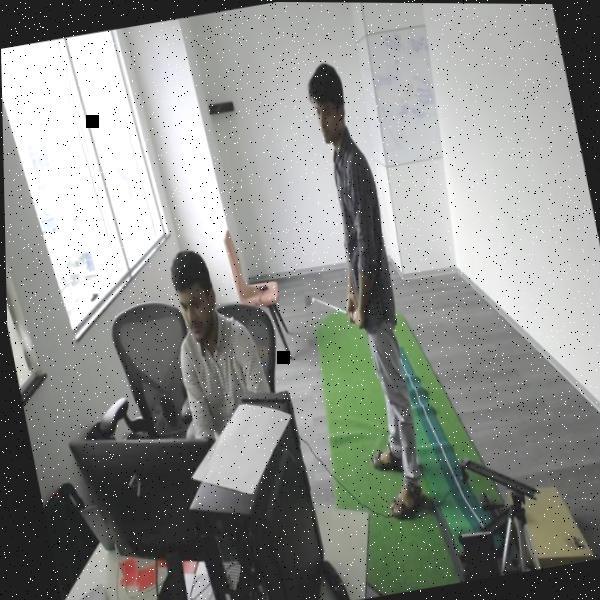ClubHead: (292, 282, 322, 321)
